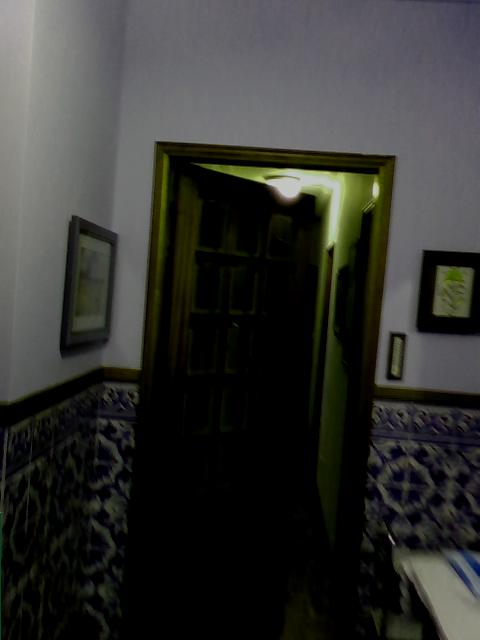semi_door: (120, 140, 396, 639)
